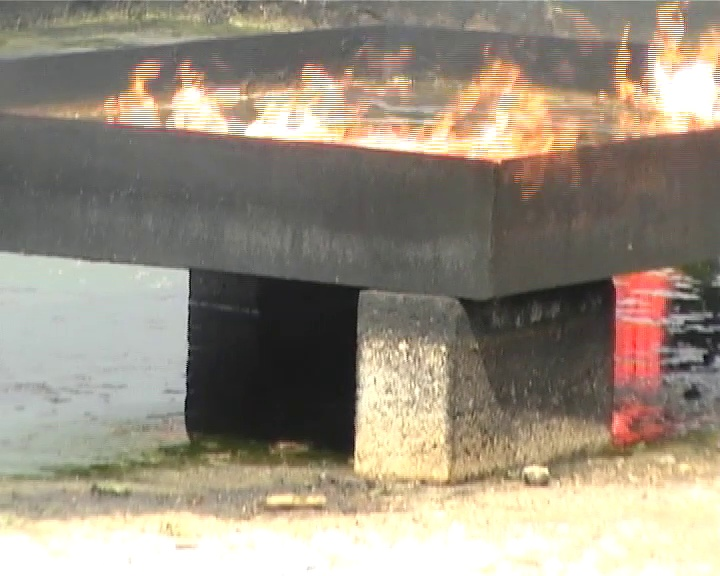fire: (356, 70, 556, 152), (613, 10, 720, 132), (245, 103, 329, 142), (164, 84, 227, 134), (105, 76, 155, 125)
